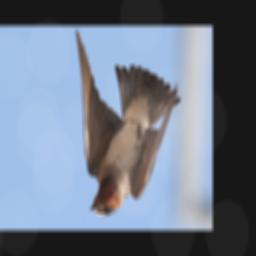Swallow: (75, 28, 180, 217)
